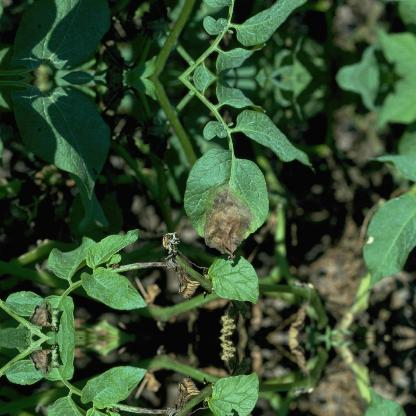Early-Blight: (195, 186, 261, 256), (152, 232, 204, 298), (21, 293, 79, 337), (21, 339, 79, 383), (151, 378, 204, 416)
